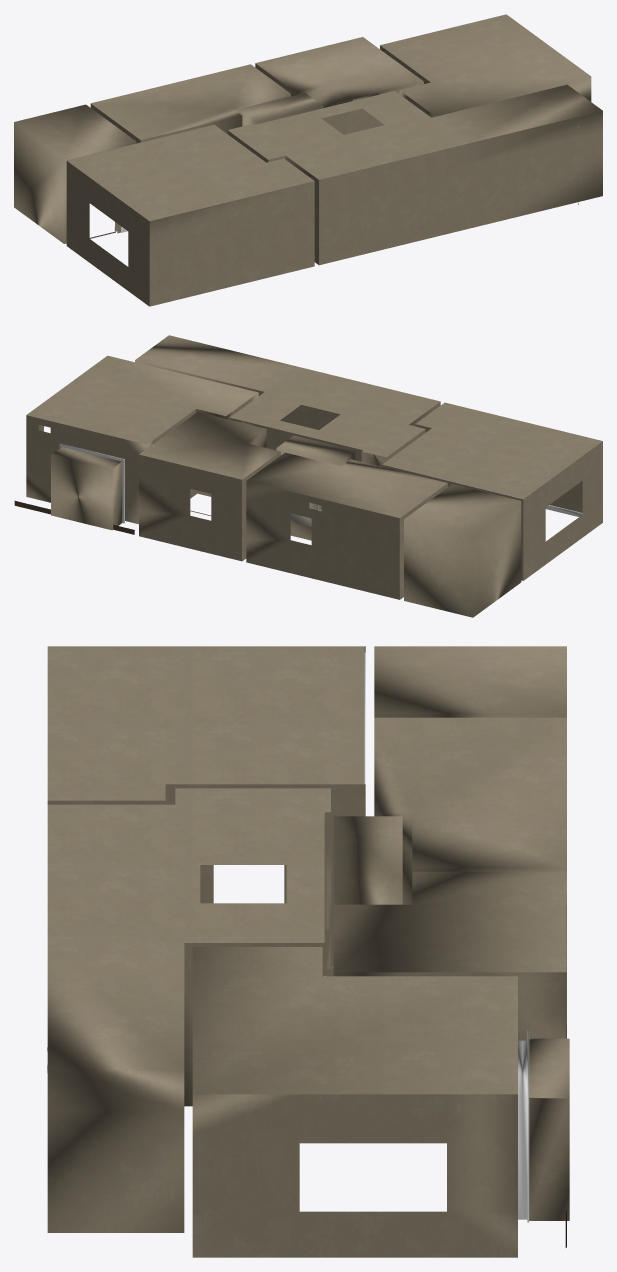
Rendered from 02_segundo_piso_walls.fbx.
The picture shows the model from 3 angles, top to bottom: view 1: azimuth 30°, elevation 25°; view 2: azimuth 150°, elevation 25°; view 3: azimuth 270°, elevation 25°; orthographic projection. The views are drawn at different scales.
Parts seen in each view (by area): view 1: 40_Hom-Wall-Plaster-01_0.1_0_1.001; view 2: 40_Hom-Wall-Plaster-01_0.1_0_1.001, 40_Hom-Trim-Basic_0.1_0_0; view 3: 40_Hom-Wall-Plaster-01_0.1_0_1.001, 40_Hom-Trim-Basic_0.1_0_0.
Boxes of the visible parts, left/top/right/bottom form: 40_Hom-Wall-Plaster-01_0.1_0_1.001: left=14, top=14, right=602, bottom=306; 40_Hom-Wall-Plaster-01_0.1_0_1.001: left=26, top=335, right=602, bottom=617; 40_Hom-Trim-Basic_0.1_0_0: left=59, top=443, right=582, bottom=523; 40_Hom-Wall-Plaster-01_0.1_0_1.001: left=47, top=646, right=569, bottom=1257; 40_Hom-Trim-Basic_0.1_0_0: left=364, top=652, right=529, bottom=1222.
Bounding box in the file's own units: 9.36 × 4.61 × 1.64.
